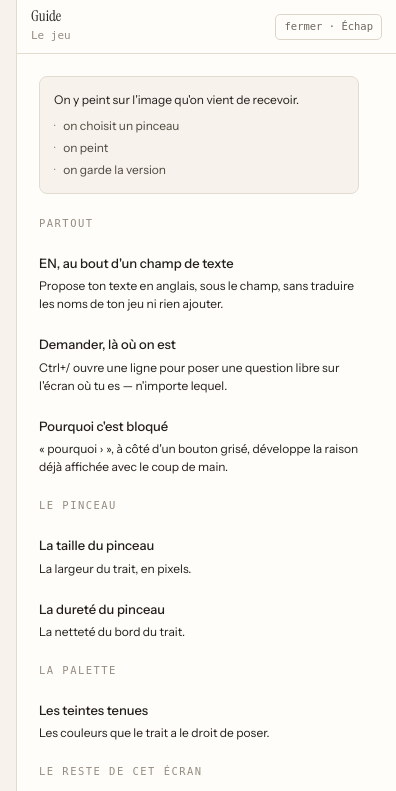
le repli — on parcourt, on ne lit pas › un clic la déplie sur ce que ça change, d'où ça sort et l'à savoir
What coordinates should you click on to do the following:
click the button "La dureté du pinceau"
I would click on:
 (102, 608)
Its box is top-left (39, 600), bottom-right (359, 619).
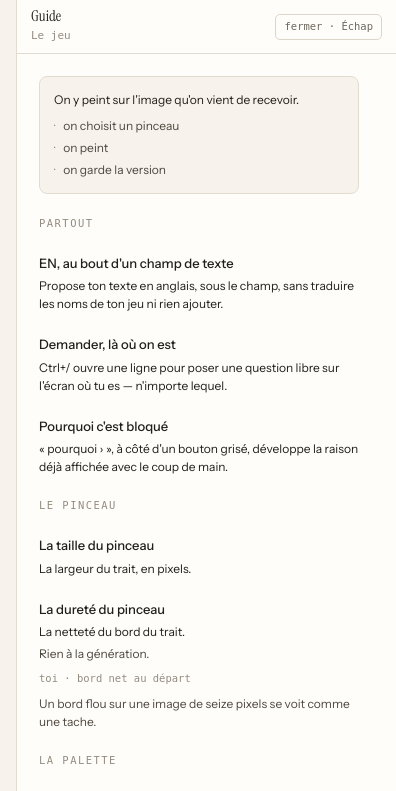
Now the text "toi · bord net au départ" is shown, box top-left (39, 672), bottom-right (191, 684)
Now the text "Un bord flou sur une image de seize pixels se voit comme une tache." is shown, box top-left (39, 695), bottom-right (359, 731)
